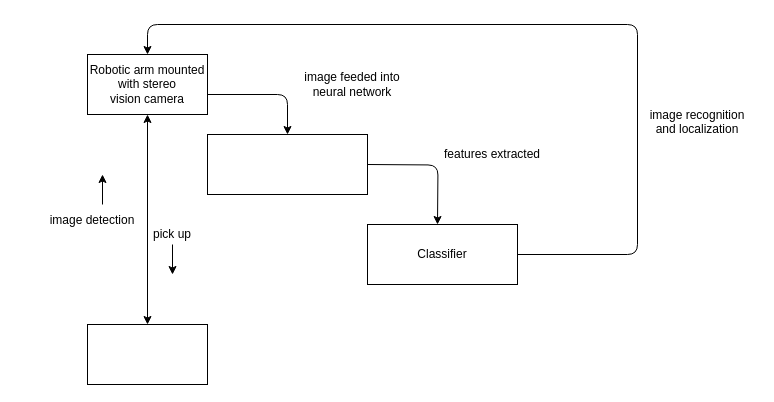
Image size: 774x402. Some labels were removed from this diagram. Each missing label, with the box of its shape:
Apples!: (86, 324, 208, 384)
Region Proposal Network (R-CNN): (206, 134, 368, 194)
